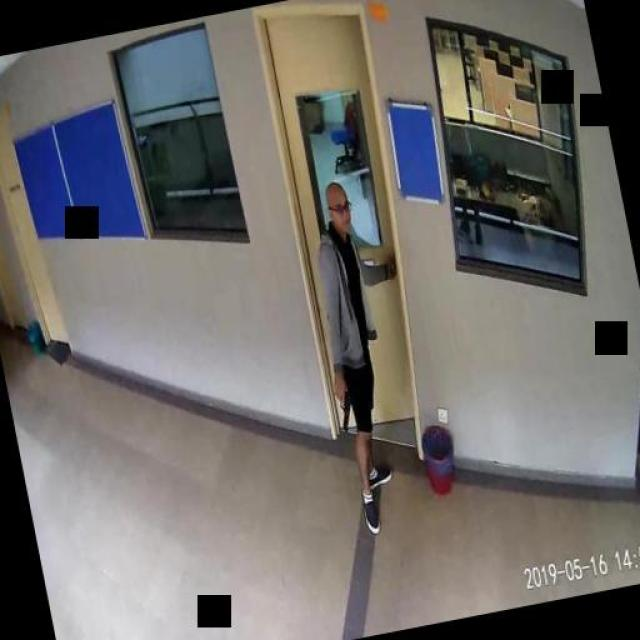gun: (332, 385, 358, 430)
